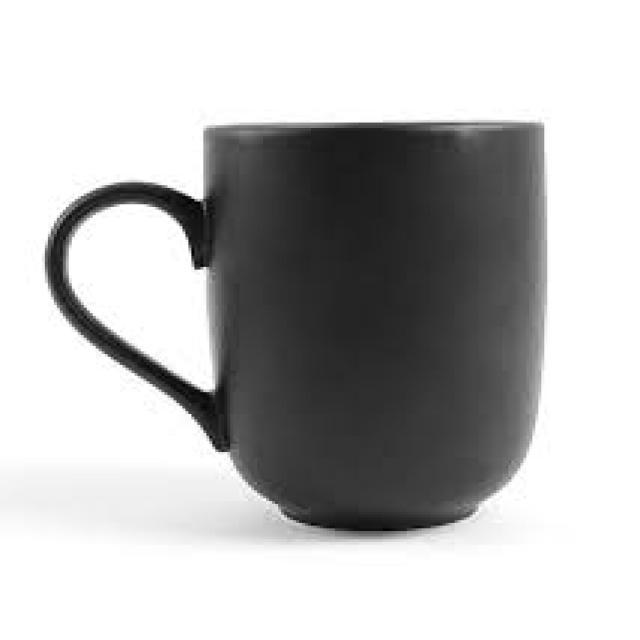taza: (41, 121, 548, 532)
